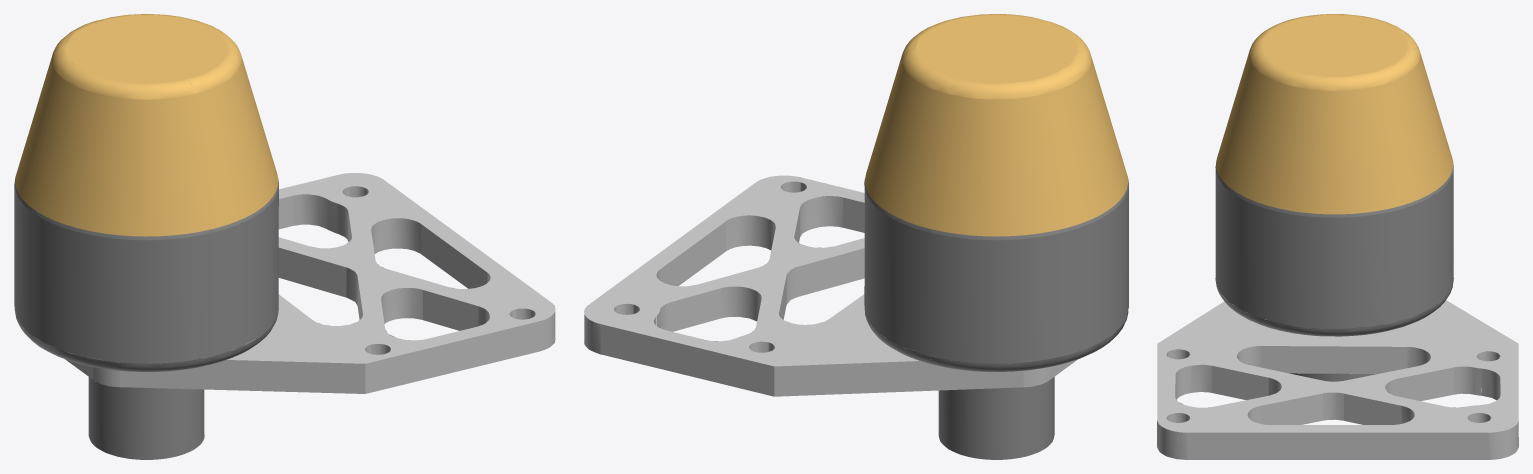
Rendered from RSL(2658_2026).fbx.
3 renders of one model, left to right at view 1: azimuth 30°, elevation 25°; view 2: azimuth 150°, elevation 25°; view 3: azimuth 270°, elevation 25°, orthographic. The views are drawn at different scales.
Visible parts, largest first — view 1: Part 1; view 2: Part 1; view 3: Part 1.
Boxes of the visible parts, x1,y1,x2,y2 form: Part 1: (14, 14, 555, 459); Part 1: (584, 14, 1128, 459); Part 1: (1157, 14, 1518, 459).
Size of the model in its own units: 9.6 by 8.1 by 7.64.
